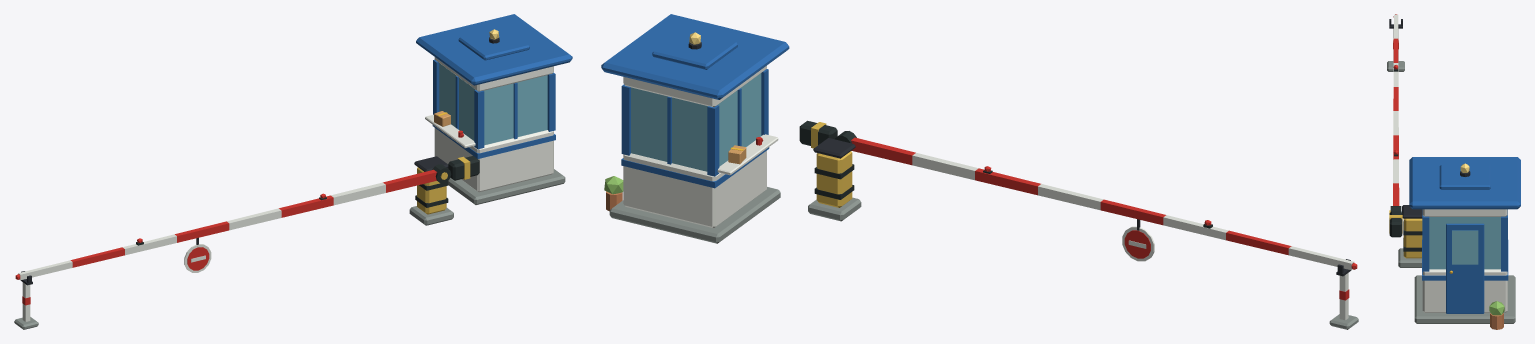
Rendered from sm_env_gate_barrier.glb.
The picture shows the model from 3 angles, left to right: view 1: azimuth 30°, elevation 25°; view 2: azimuth 150°, elevation 25°; view 3: azimuth 270°, elevation 25°; orthographic projection. The views are drawn at different scales.
Parts seen in each view (by area): view 1: GuardBooth, Boom, BarrierPost, BoomRest; view 2: GuardBooth, Boom, BarrierPost, BoomRest; view 3: GuardBooth, Boom, BarrierPost, BoomRest.
Boxes of the visible parts, box(x1,y1,x2,y2) form: GuardBooth: box(416, 14, 572, 204); Boom: box(15, 156, 479, 280); BarrierPost: box(409, 156, 453, 225); BoomRest: box(14, 271, 38, 329); GuardBooth: box(601, 14, 789, 243); Boom: box(799, 120, 1357, 270); BarrierPost: box(808, 138, 861, 221); BoomRest: box(1329, 259, 1358, 329); GuardBooth: box(1409, 157, 1520, 329); Boom: box(1389, 14, 1402, 237); BarrierPost: box(1398, 205, 1422, 267); BoomRest: box(1387, 19, 1404, 71).
Size of the model in its own units: 11.88 by 2.91 by 2.52.
